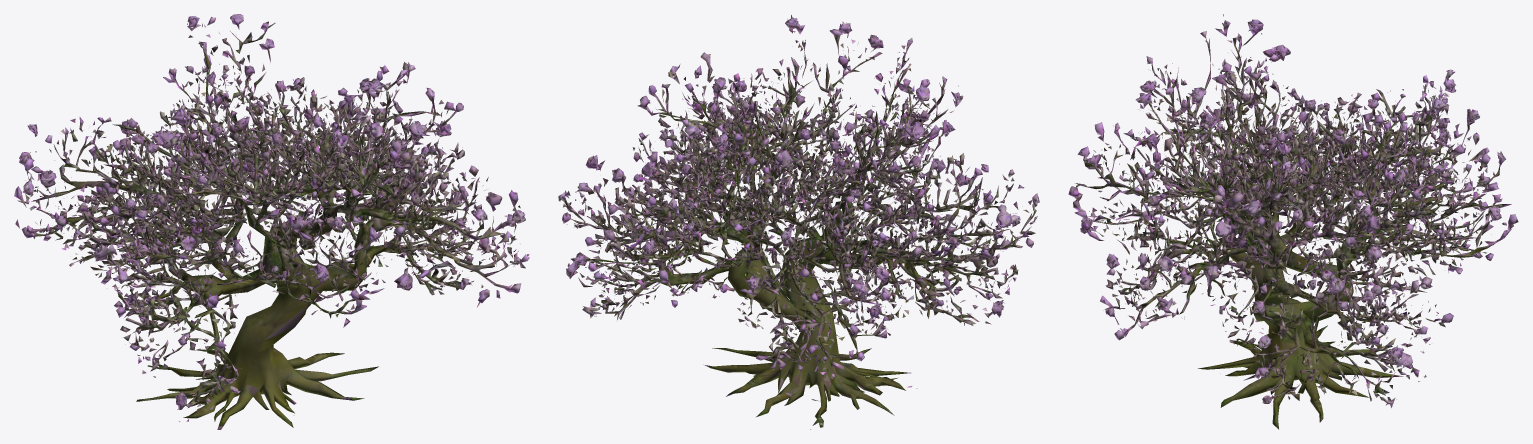
File: A_sprawling_forest_bu.glb
The picture shows the model from 3 angles, left to right: view 1: azimuth 30°, elevation 25°; view 2: azimuth 150°, elevation 25°; view 3: azimuth 270°, elevation 25°; orthographic projection. The views are drawn at different scales.
Parts seen in each view (by area): view 1: A_sprawling_forest_bu; view 2: A_sprawling_forest_bu; view 3: A_sprawling_forest_bu.
Boxes of the visible parts, box(x1,y1,x2,y2) form: A_sprawling_forest_bu: box(14, 14, 529, 429); A_sprawling_forest_bu: box(558, 15, 1039, 429); A_sprawling_forest_bu: box(1068, 14, 1518, 429).
Size of the model in its own units: 1.9 by 1.47 by 1.87.
1 material, 1 textured.
